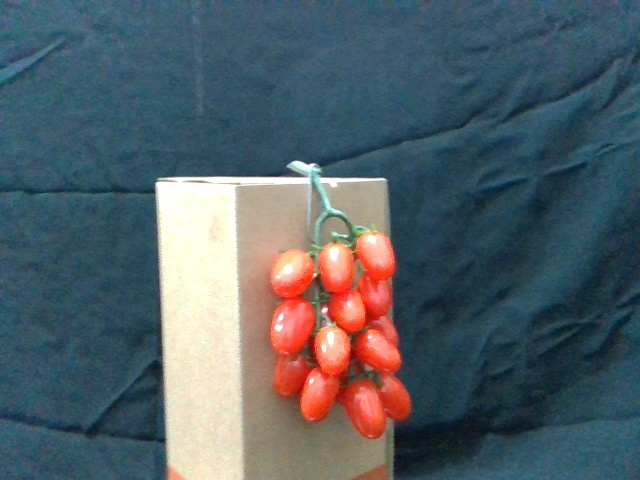tomato: (268, 297, 320, 356), (344, 378, 387, 443), (352, 329, 403, 376), (272, 249, 318, 300), (352, 228, 399, 277), (302, 368, 340, 423), (313, 325, 352, 378), (371, 372, 413, 420), (271, 352, 312, 401), (319, 242, 356, 294), (356, 271, 398, 316), (327, 287, 367, 333)
